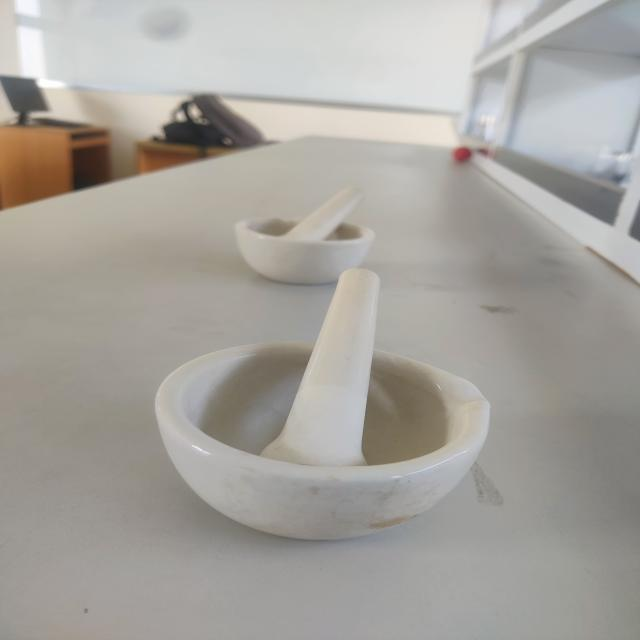Porcelain_Mortar Pestle: (120, 255, 526, 564), (218, 173, 415, 295)
